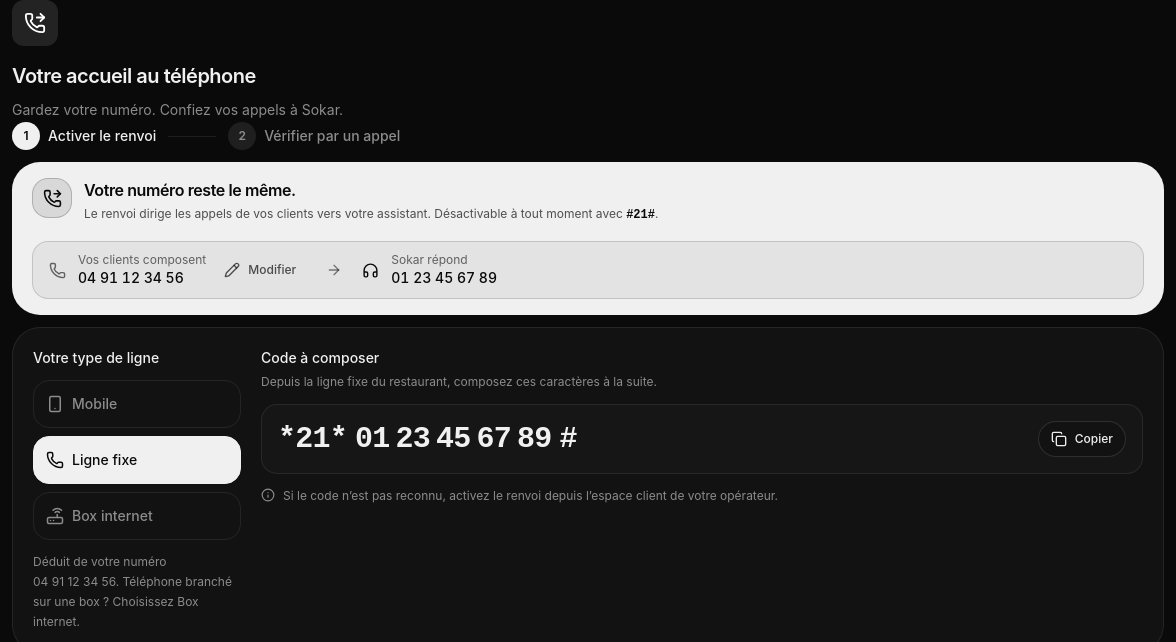
Test: PhoneStep › permet de modifier un numéro déjà connu depuis le bandeau
Click the button with aria-label "Modifier le numéro du restaurant" at (260, 270), box [214,254,306,286]
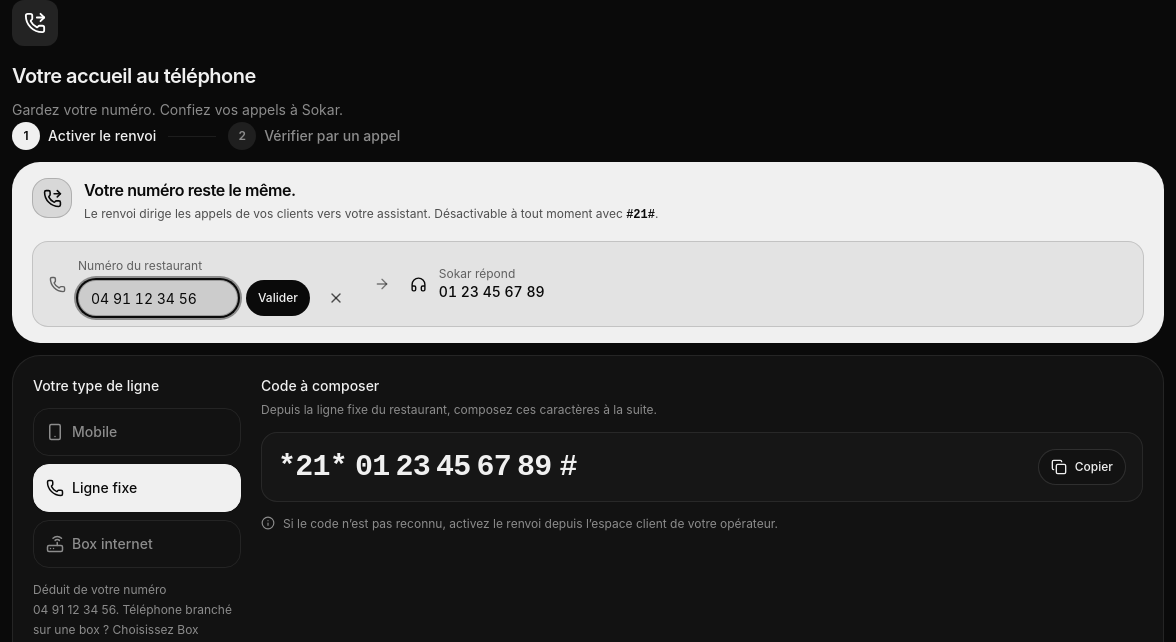
Expected: the field labelled "Numéro du restaurant" holds "04 91 12 34 56"
Replace the text in the field labelled "Numéro du restaurant" with "06 12 34 56 78" at (158, 298), box [78,280,238,316]
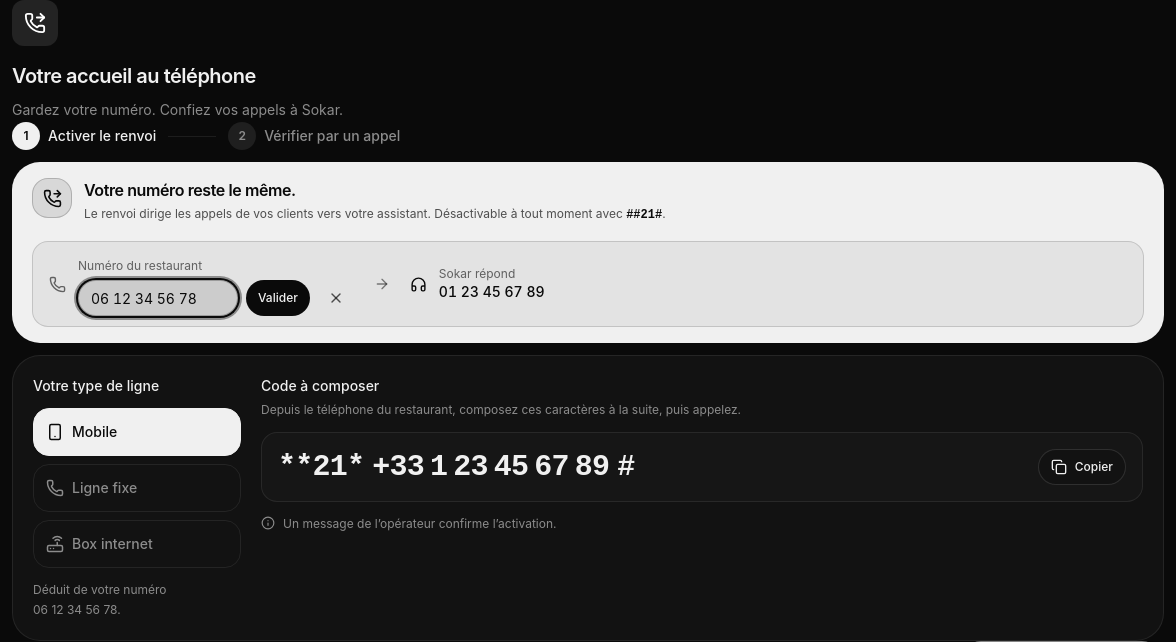
Expected: the button "Mobile" is pressed, [33,408,241,456]
Click the button "Valider" at (278, 298), box [246,280,310,316]
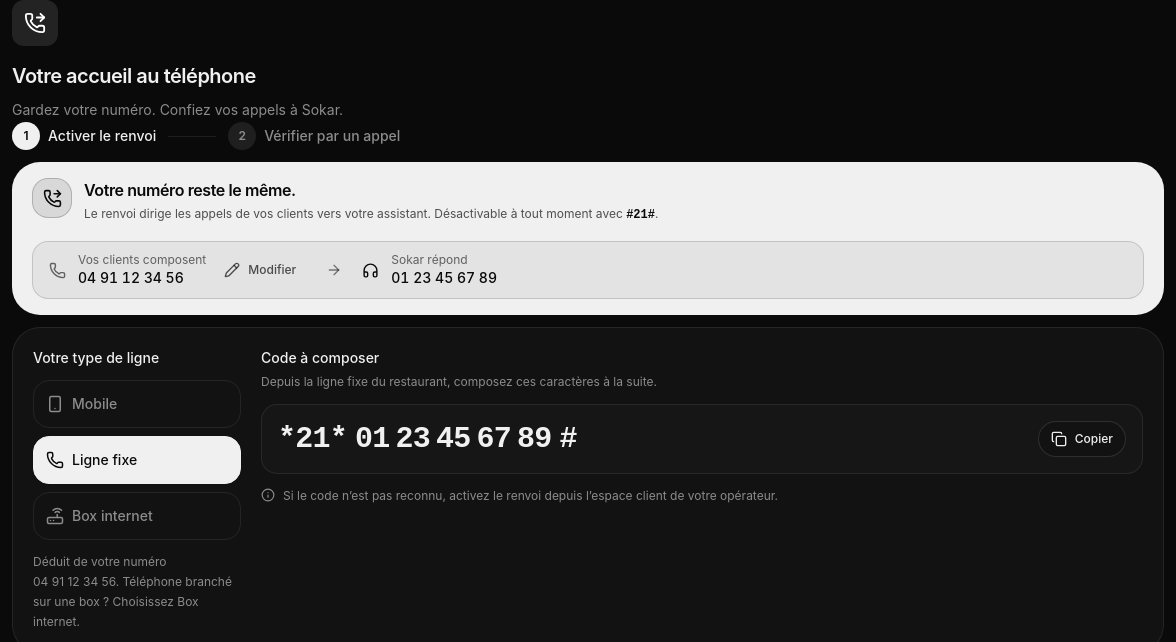
Expected: the label labelled "Numéro du restaurant" is gone
